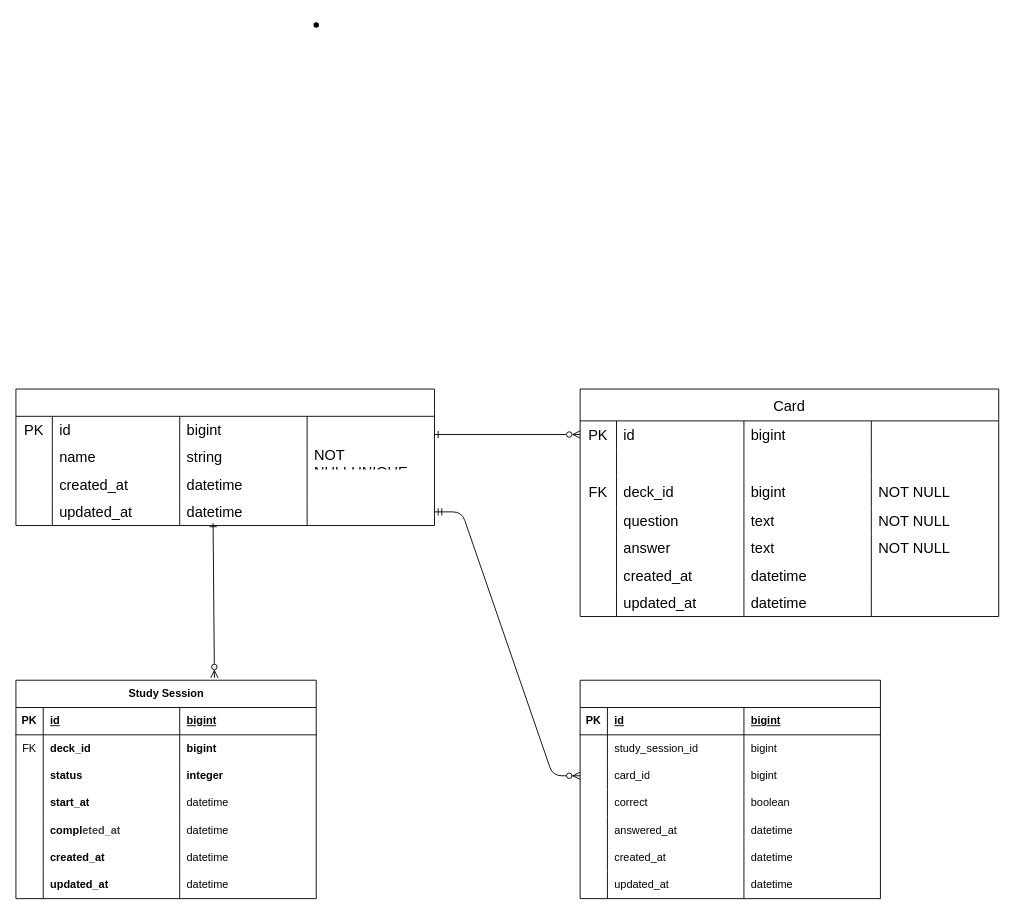
Image size: 1015x915. Some labels were removed from this diagram. The box of each missing label's shape, as (x1, y1, x2, y2) in pixels:
Deck: (15, 388, 435, 526)
StudyResult: (579, 679, 880, 899)
